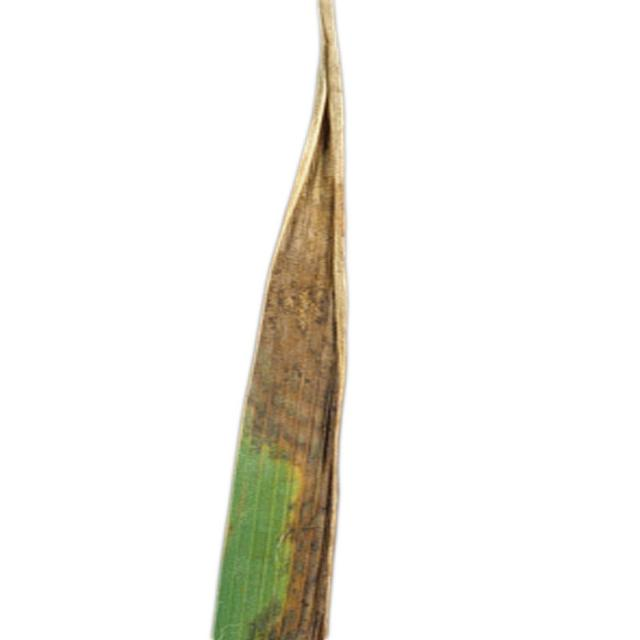Leaf scald: (185, 3, 435, 640)
